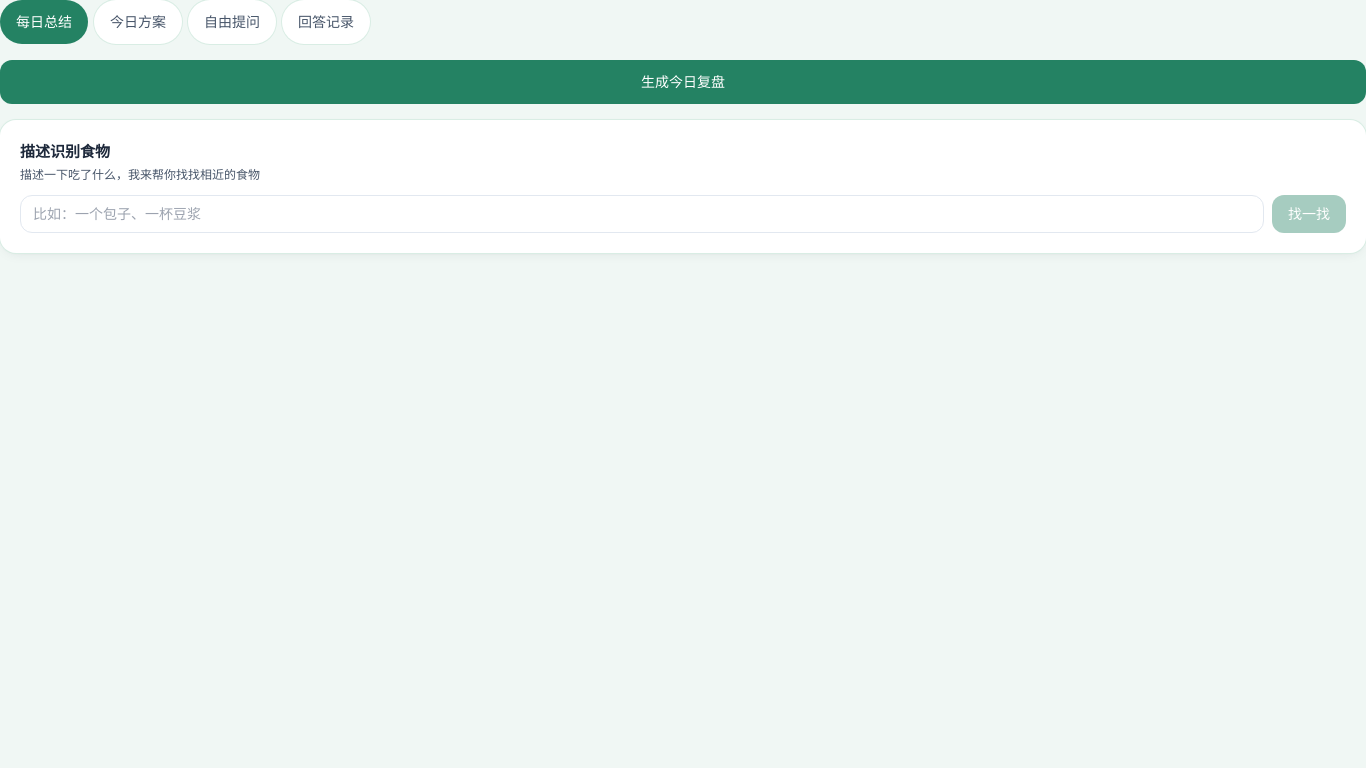
Test: AI 执行轨迹（GAP-7） › need_confirm / max_steps / disabled 均有中性中文映射
The width and height of the screenshot is (1366, 768).
Step 1. Click the tab "回答记录" → (326, 22), box [282, 0, 370, 44]
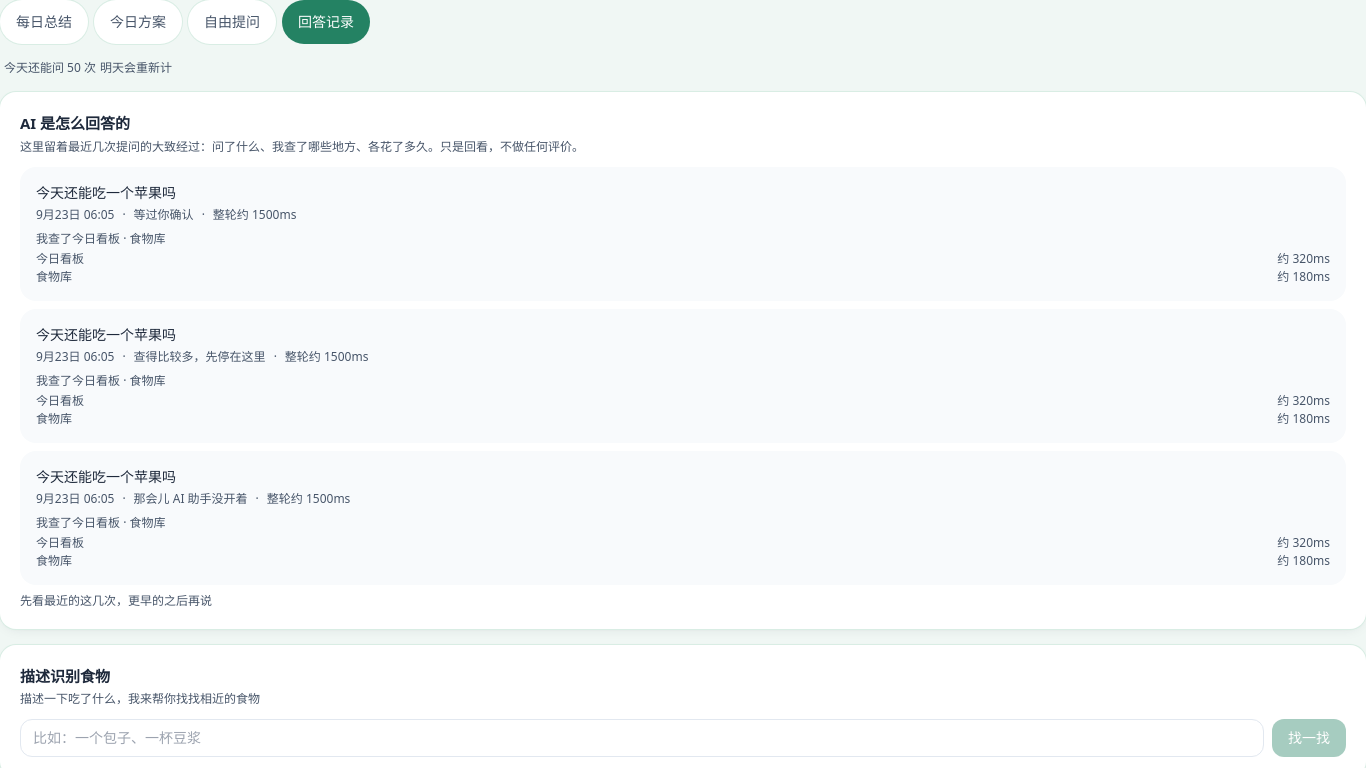
Expected: the text "等过你确认" is shown, [134, 206, 194, 222]
Expected: the text "查得比较多，先停在这里" is shown, [134, 348, 266, 364]
Expected: the text "那会儿 AI 助手没开着" is shown, [134, 490, 248, 506]
